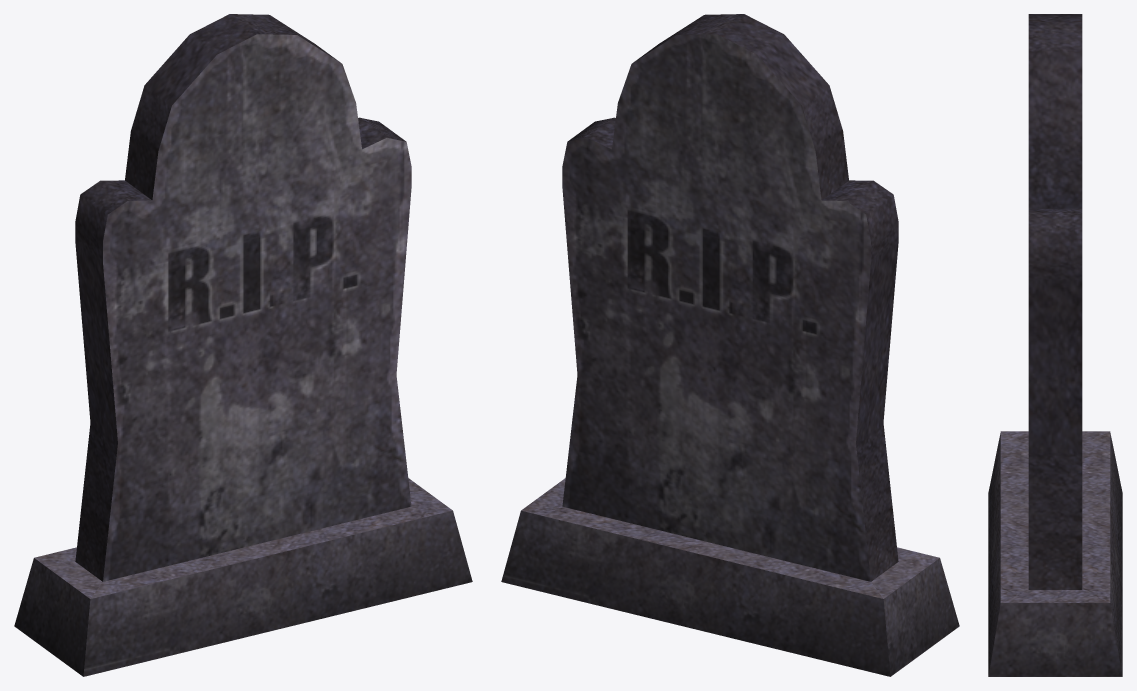
Rendered from Tombstone_02.fbx.
The picture shows the model from 3 angles, left to right: view 1: azimuth 30°, elevation 25°; view 2: azimuth 150°, elevation 25°; view 3: azimuth 270°, elevation 25°; orthographic projection. The views are drawn at different scales.
Visible parts, largest first — view 1: Tombstone_02; view 2: Tombstone_02; view 3: Tombstone_02.
Boxes of the visible parts, x1,y1,x2,y2 form: Tombstone_02: (14,14,472,676); Tombstone_02: (501,14,959,676); Tombstone_02: (988,14,1122,676).
Size of the model in its own units: 88.41 by 126 by 27.22.
